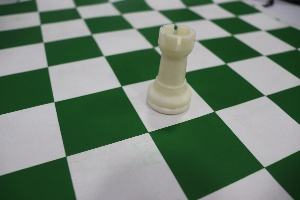white_rook: (146, 16, 197, 133)
